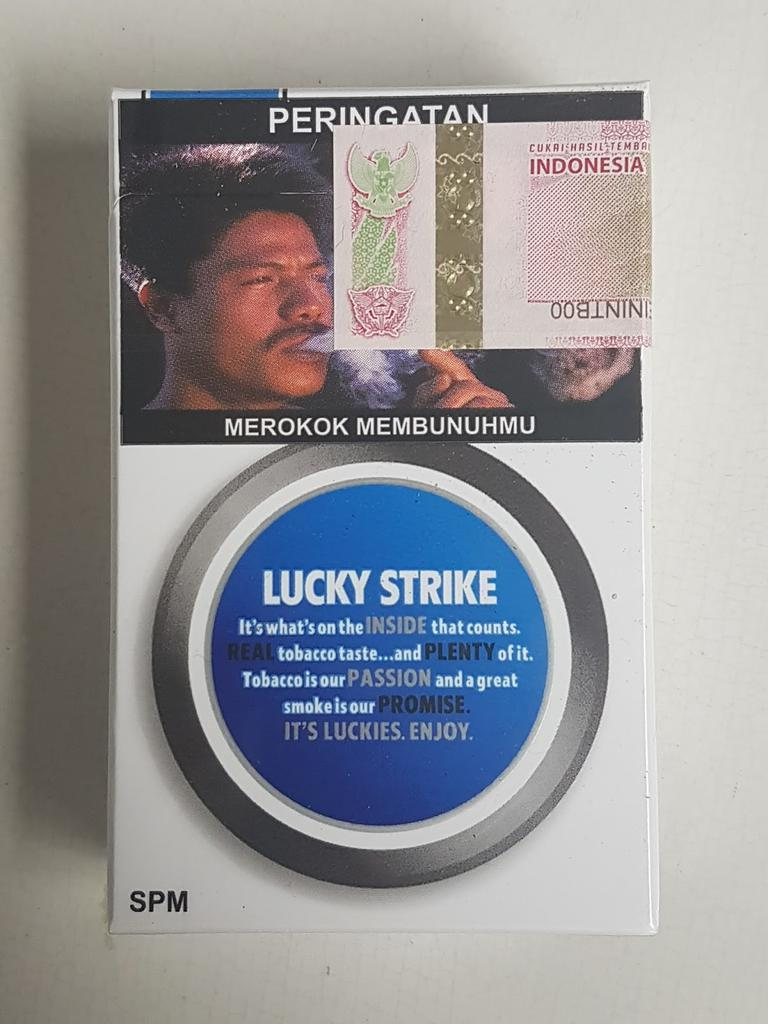lucky_strike_blue: (114, 93, 657, 933)
